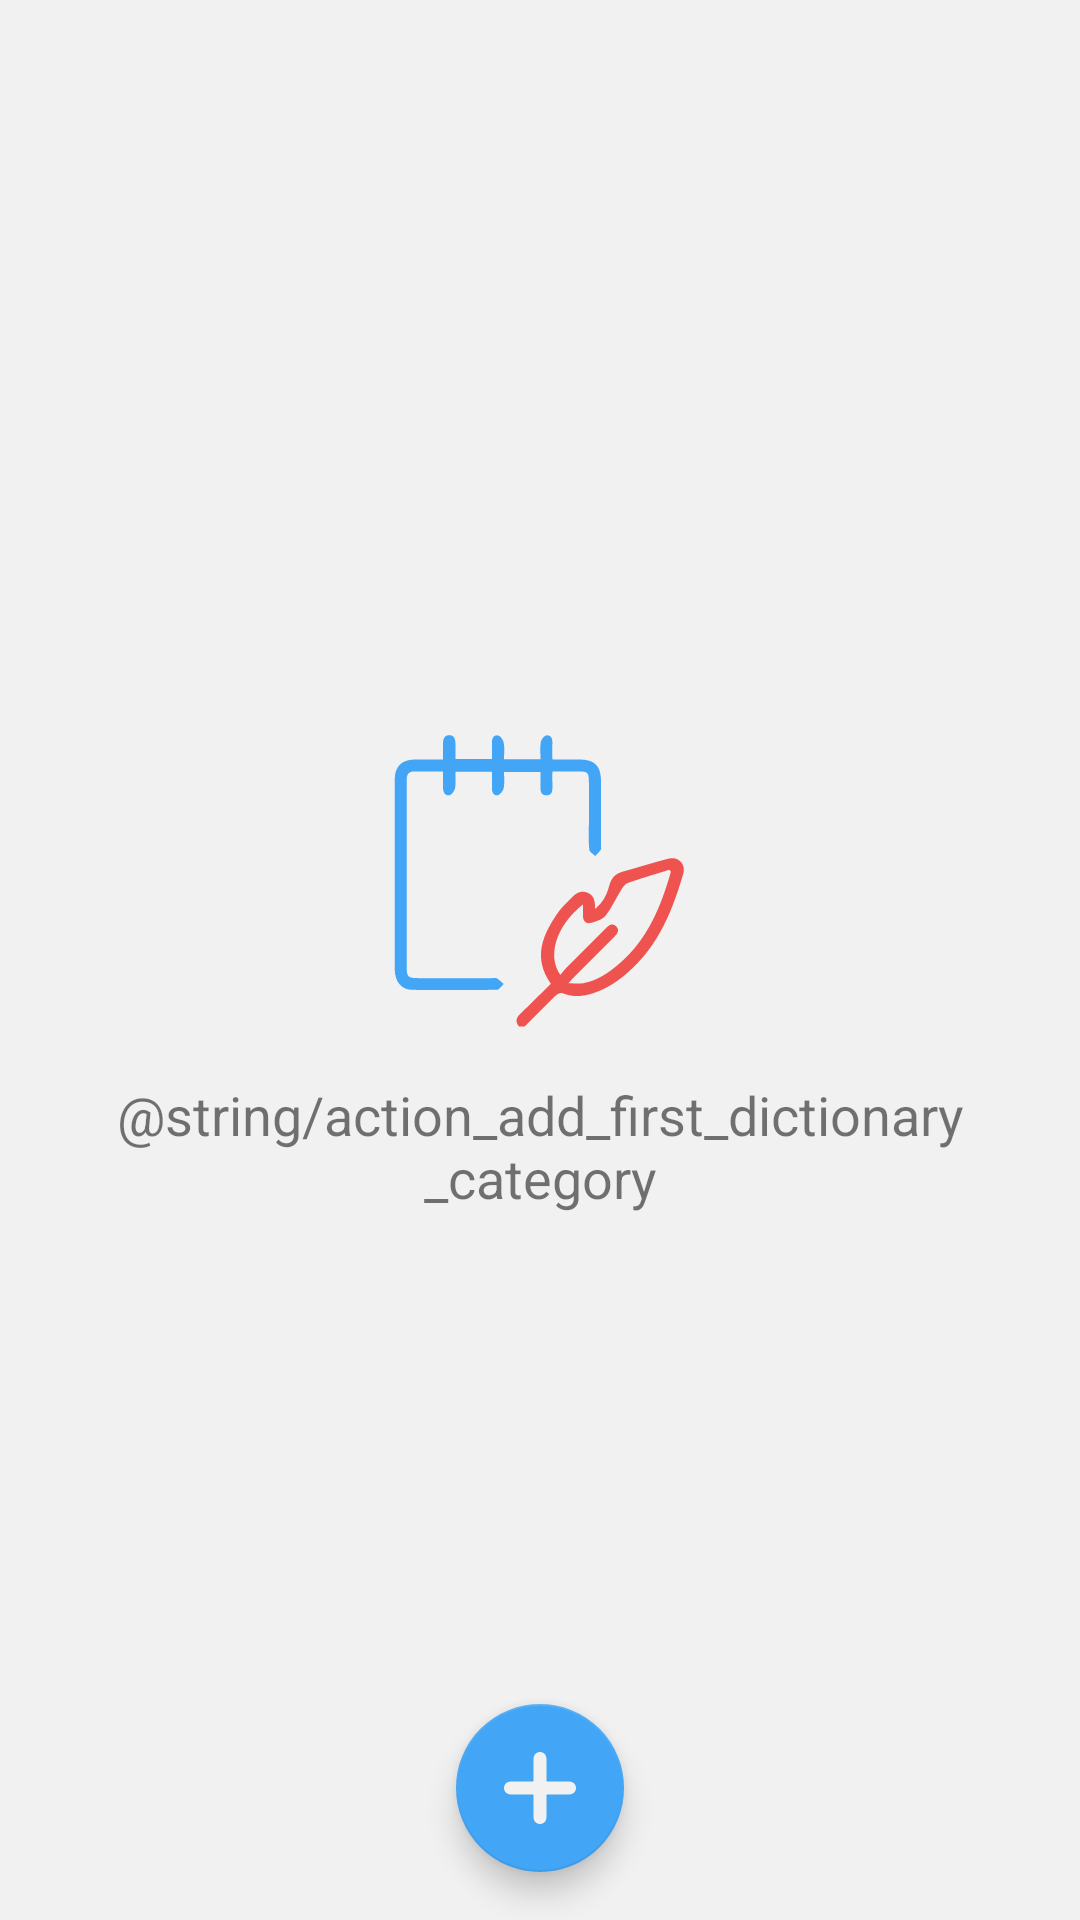

Icons on this 1080px×1920px Android screen, each with the point to tap as point (x, y):
add: point (540, 1788)
